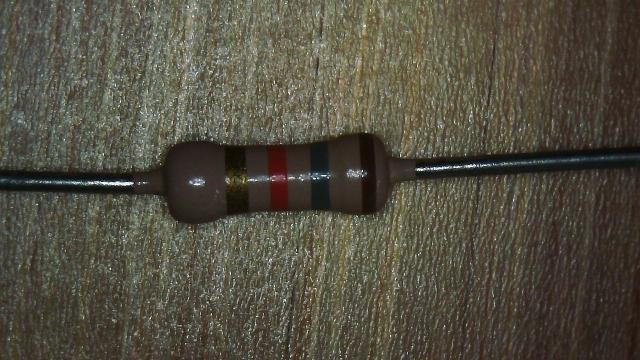brown: (359, 130, 376, 211)
gold: (225, 145, 246, 213)
grey: (312, 141, 328, 209)
orange: (269, 144, 288, 210)
resistor: (138, 120, 414, 230)
